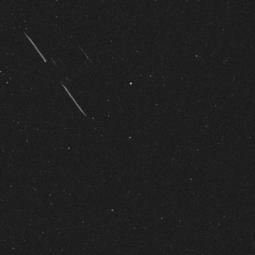soho: (25, 29, 107, 123)
